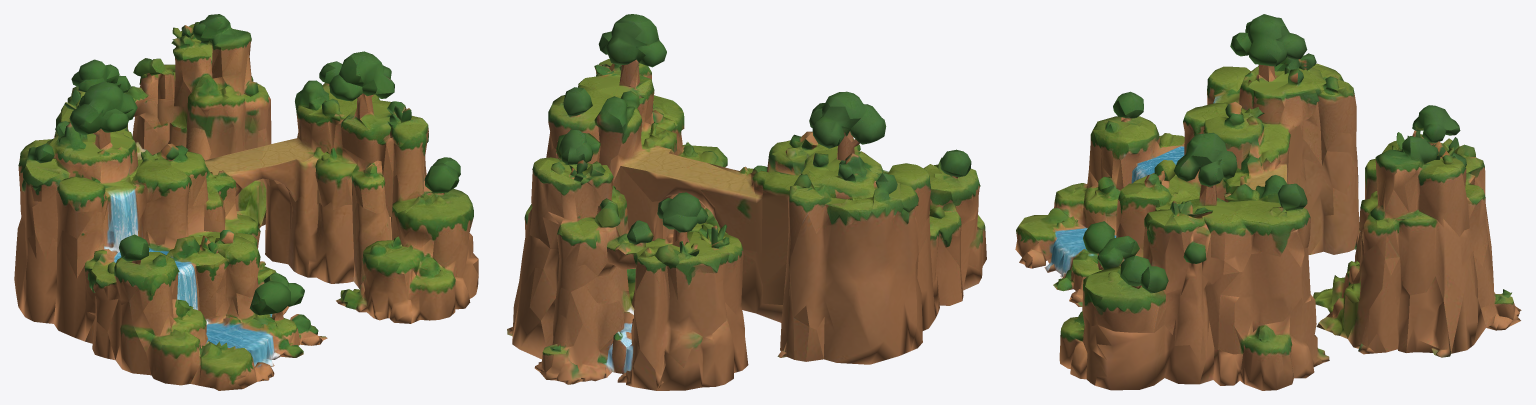
File: forest-falls.glb
The picture shows the model from 3 angles, left to right: view 1: azimuth 30°, elevation 25°; view 2: azimuth 150°, elevation 25°; view 3: azimuth 270°, elevation 25°; orthographic projection. The views are drawn at different scales.
Bounding box in the file's own units: 1.66 × 0.9274 × 1.9.
1 material, 1 textured.
